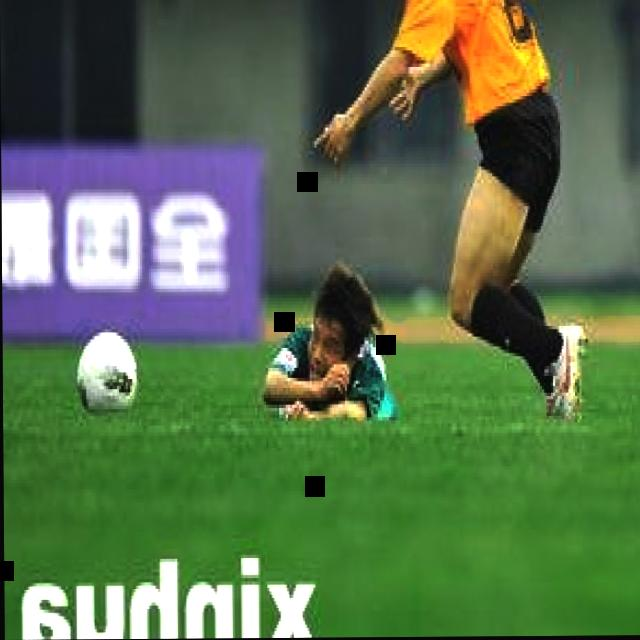Fall-Detected: (253, 244, 414, 425)
